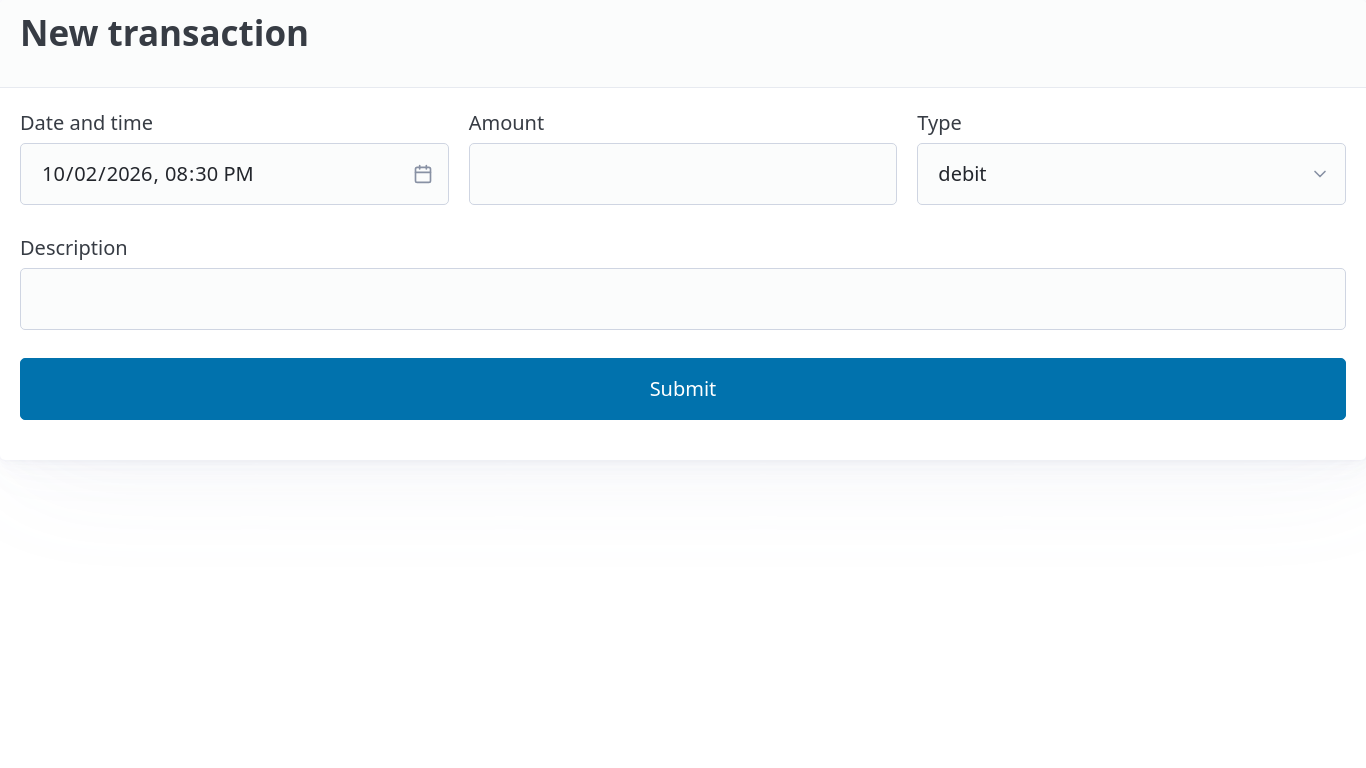
Test case: TransactionForm › shows submit failures in an alert and keeps the entered values
Type "10" into the number field labelled "Amount" at point(683, 174), box [469,143,897,205]
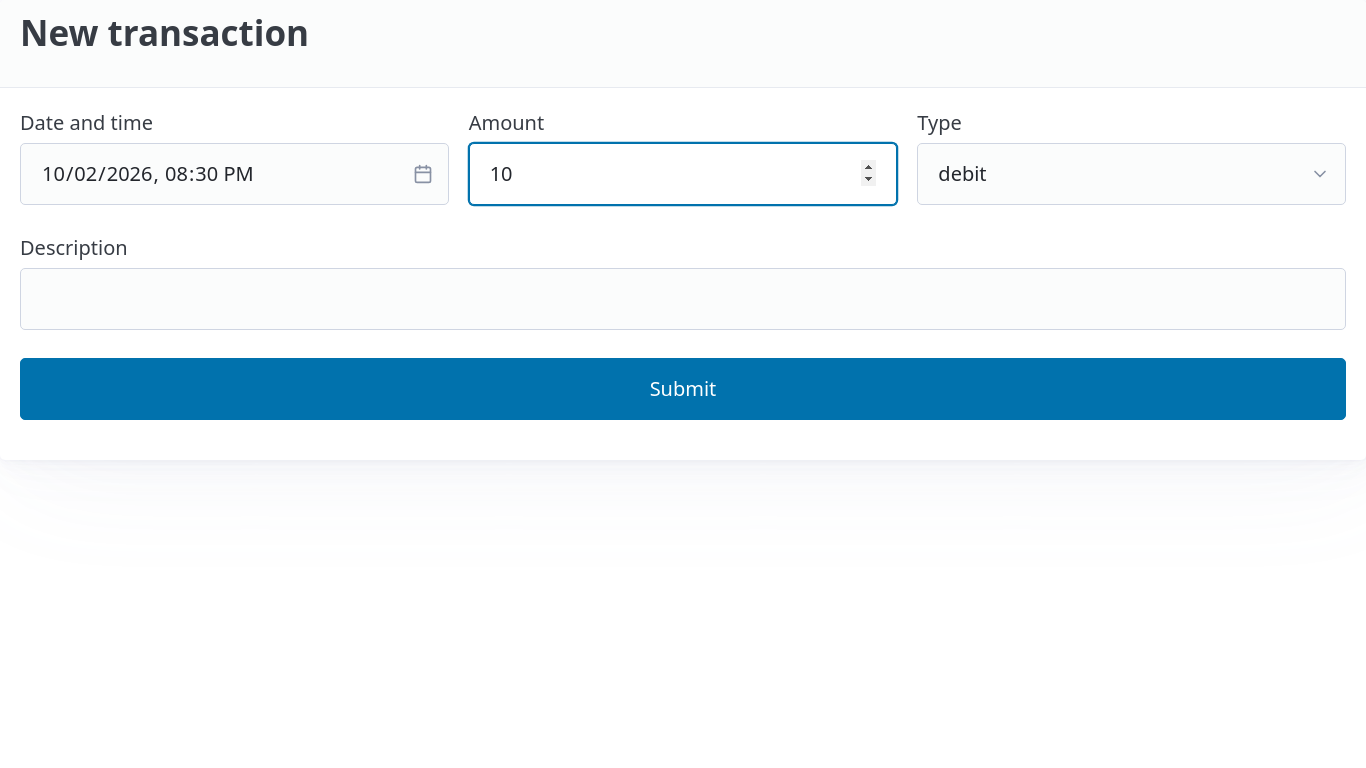
Type "Too much" into the field labelled "Description" at point(683, 299), box [20,268,1346,330]
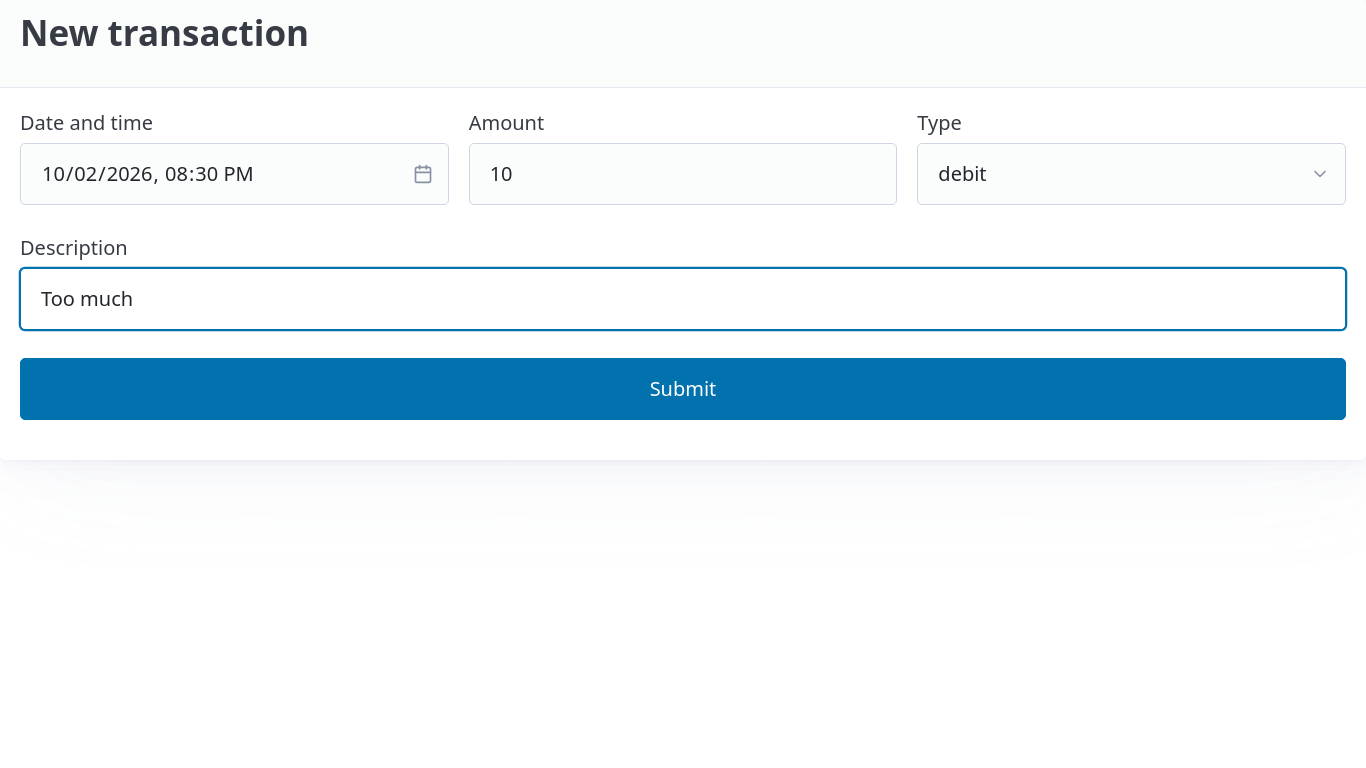
Click the button "Submit" at point(683, 389), box [20,358,1346,420]
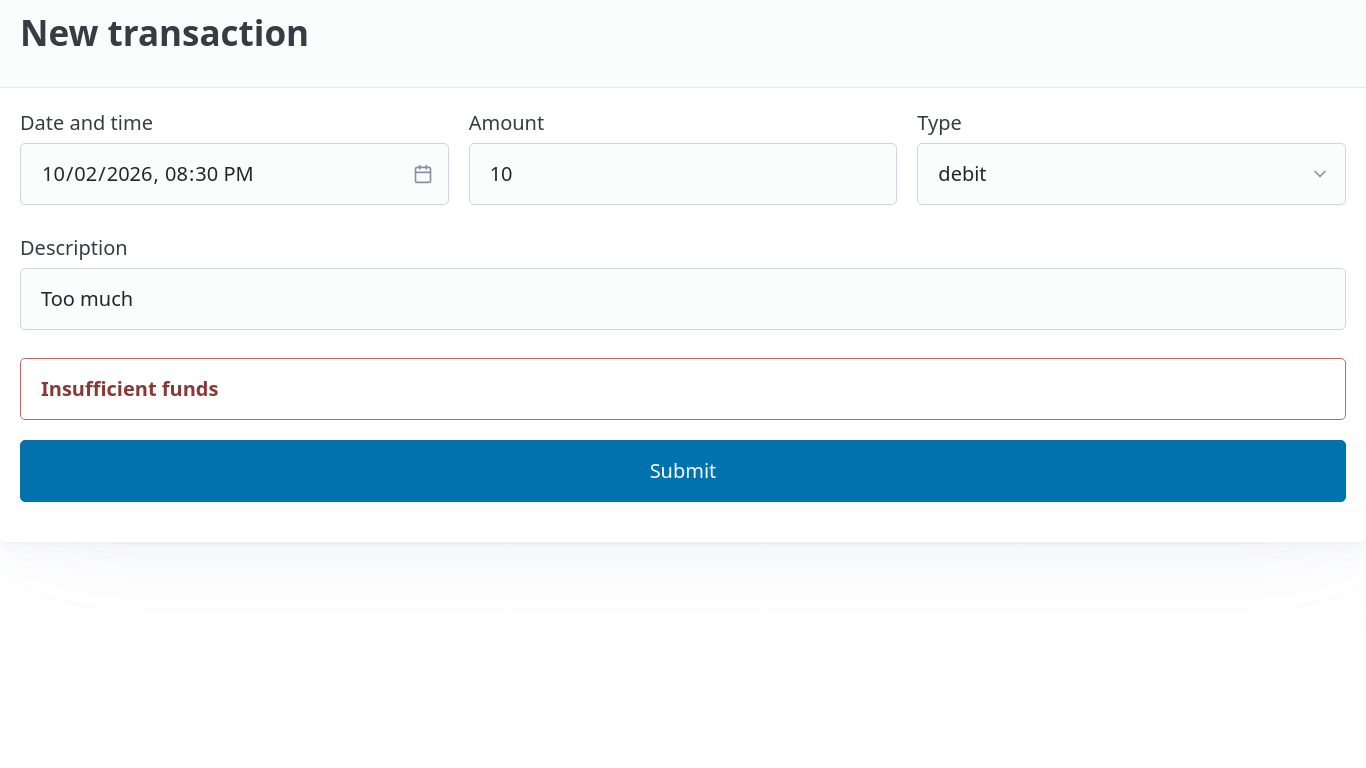
Expected: the button "Submit" is enabled, [20,440,1346,502]
Now the message reads "Insufficient funds", box [41,375,218,402]
